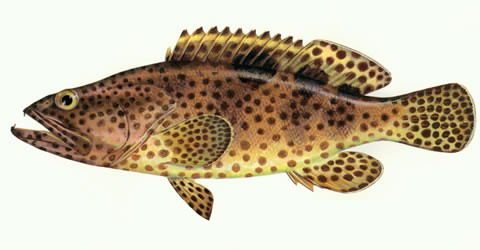fish: (10, 23, 475, 221)
